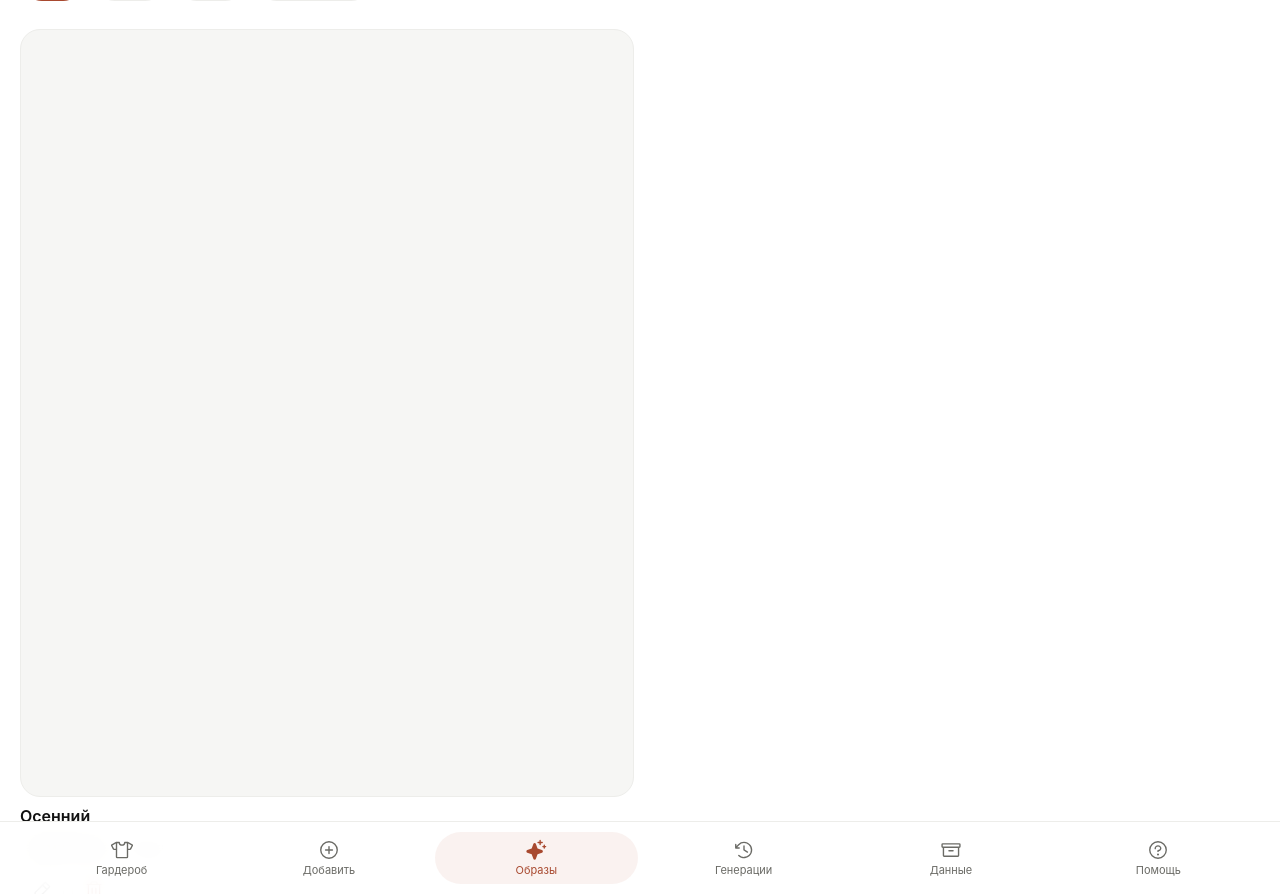
Test: Список образов (T18) › открытие образа ведёт на /outfit/:id
(page scrolled)
Click the button with aria-label "Открыть образ Осенний" at (327, 811), box [20,29,634,860]
(page scrolled)
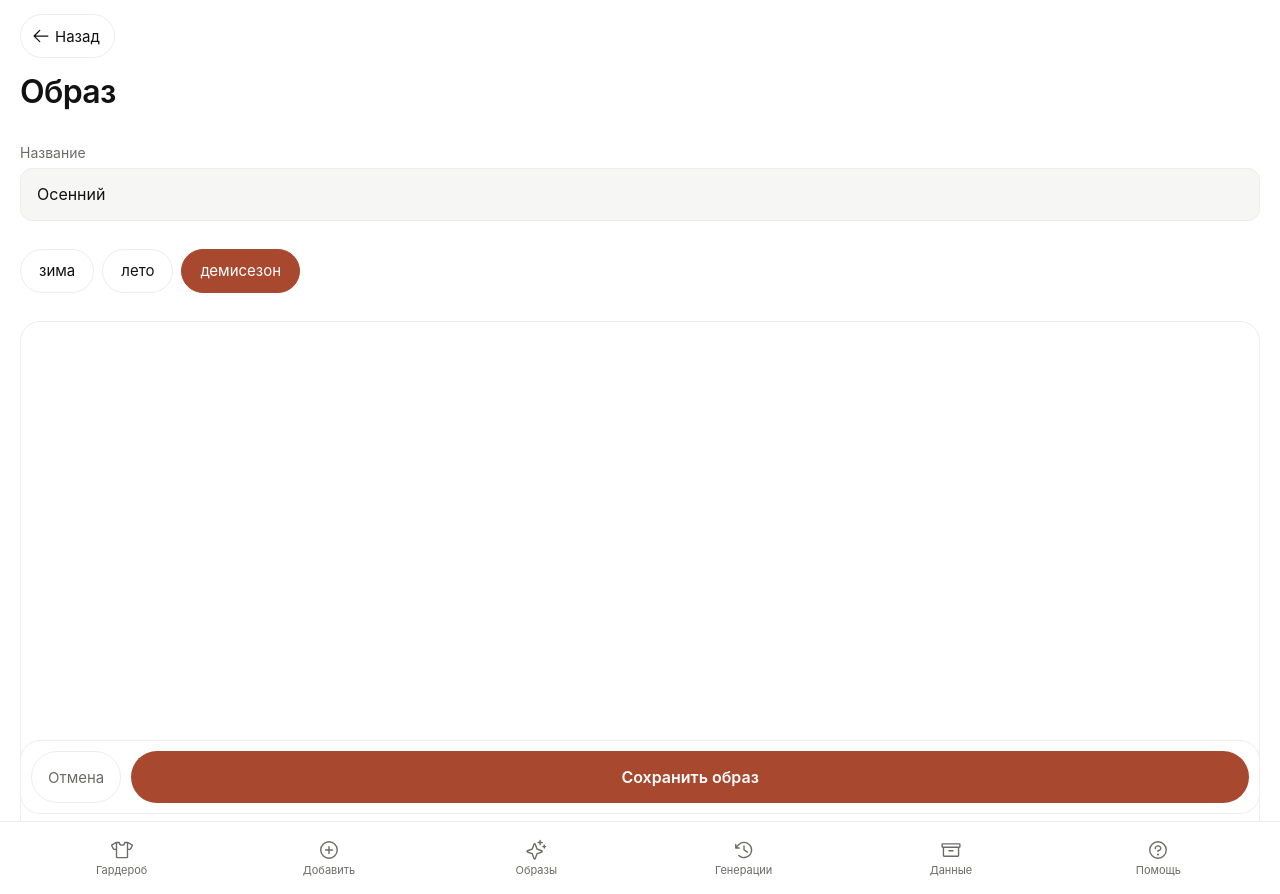
Expected: the heading "Образ" is shown, [20,70,116,115]
Now the field showing "Осенний" is shown, box [20,168,1260,221]
